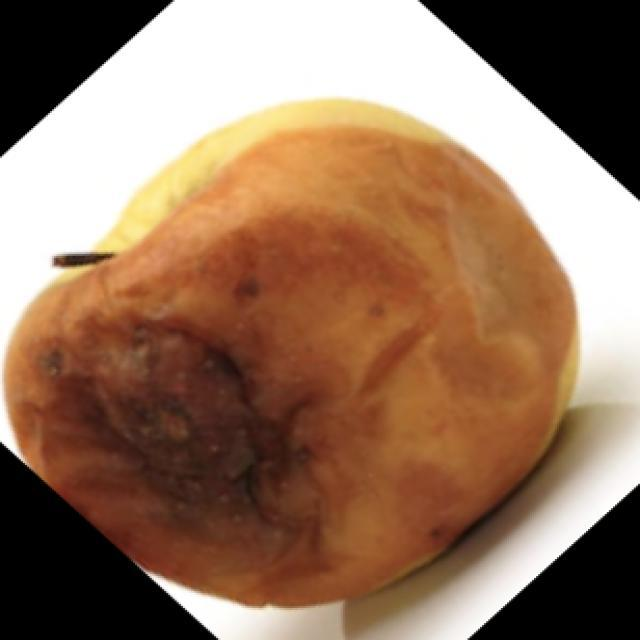Rotten: (25, 108, 568, 592)
